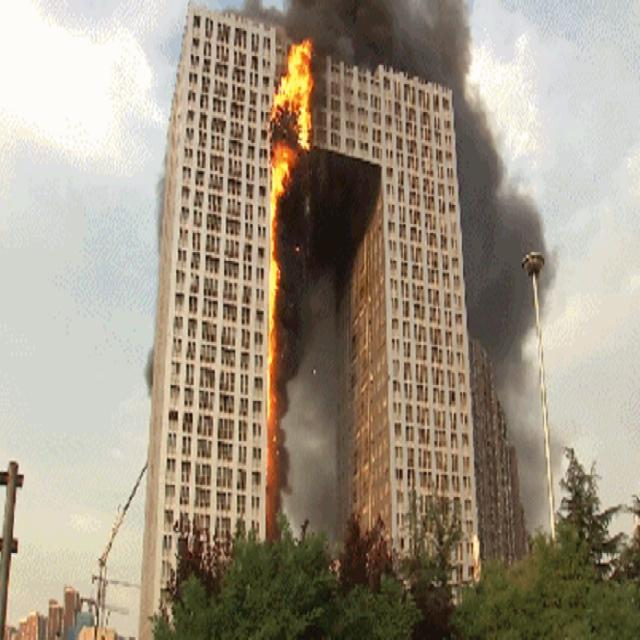Fire: (269, 41, 314, 148), (269, 198, 279, 422), (270, 151, 292, 197)
Smoke: (458, 80, 546, 342), (314, 0, 470, 74), (281, 204, 321, 418)
